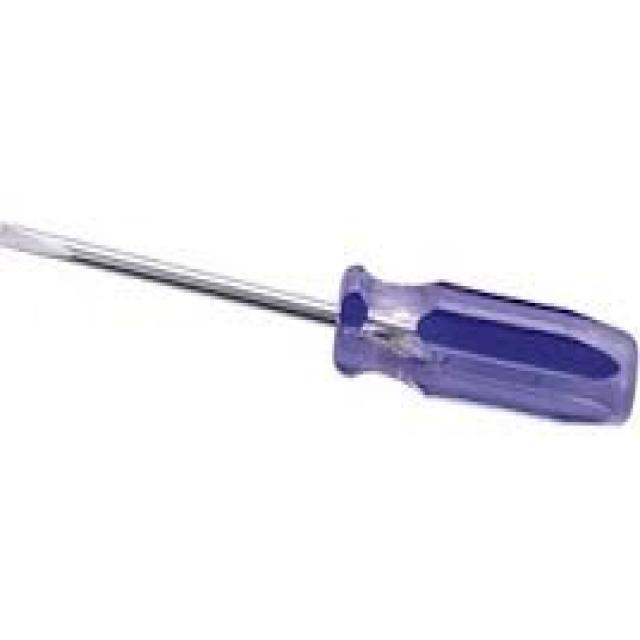screwdriver: (0, 218, 638, 432)
